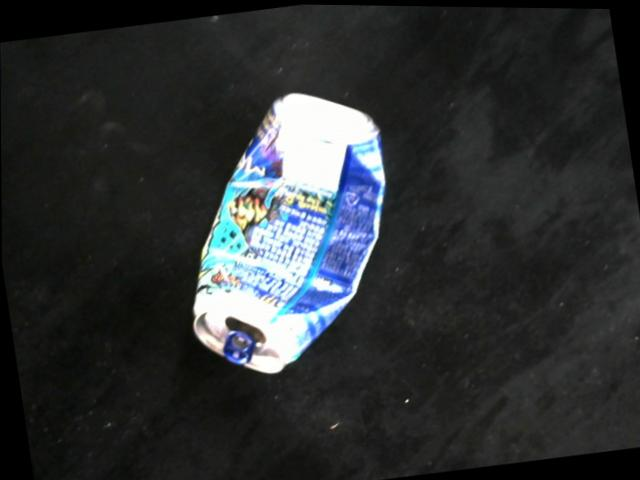can: (187, 92, 388, 377)
